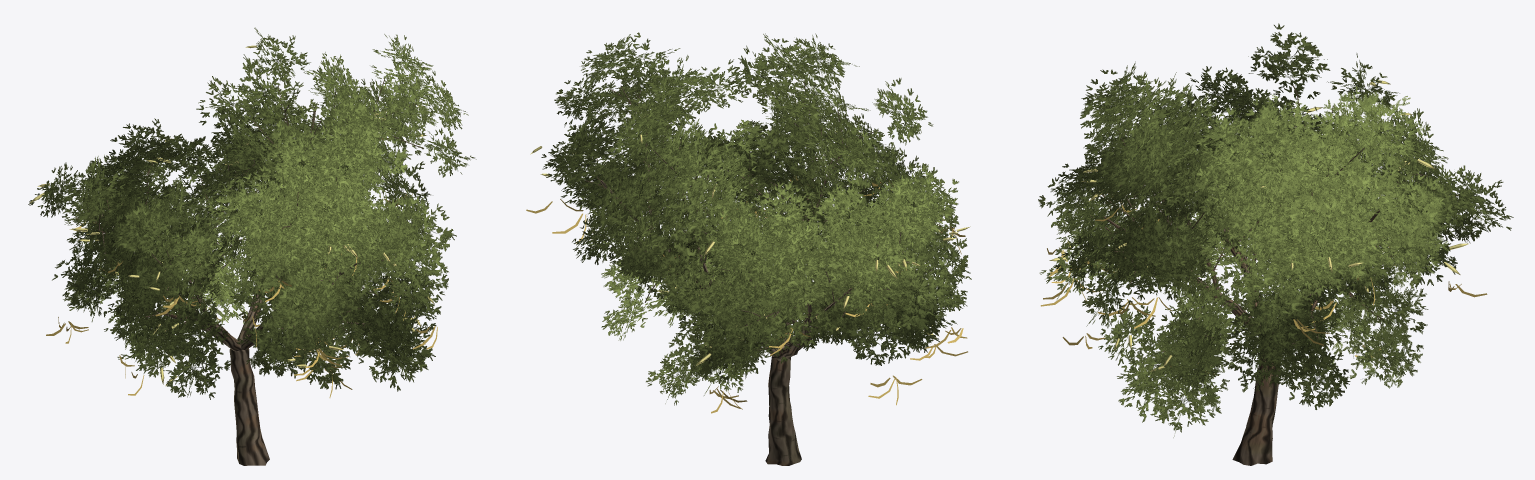
File: young-b.lod0.glb
3 renders of one model, left to right at view 1: azimuth 30°, elevation 25°; view 2: azimuth 150°, elevation 25°; view 3: azimuth 270°, elevation 25°, orthographic. The views are drawn at different scales.
Parts seen in each view (by area): view 1: foliage, bark, fruit, flowers; view 2: foliage, bark, fruit, flowers; view 3: foliage, bark, fruit, flowers.
Part boxes in pixels (x1,y1,x2,y2): foliage: (28, 27, 476, 399); bark: (87, 78, 423, 465); fruit: (46, 138, 437, 397); flowers: (30, 45, 434, 386); foliage: (541, 32, 971, 405); bark: (585, 82, 931, 465); fruit: (526, 158, 967, 413); flowers: (530, 107, 970, 365); foliage: (1038, 23, 1513, 437); bark: (1090, 85, 1434, 465); fruit: (1040, 146, 1487, 375); flowers: (1049, 80, 1468, 371).
Bounding box in the file's own units: 3.95 × 3.5 × 3.68.
Materials: 5 (2 with a texture image).
